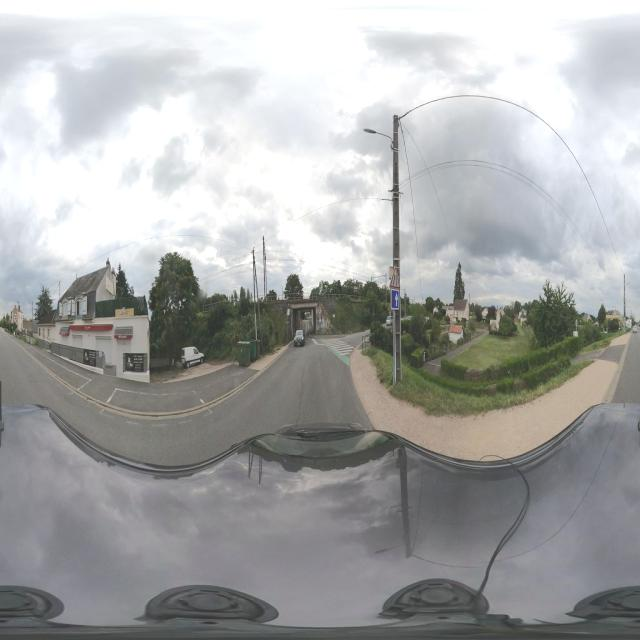car: (180, 345, 205, 367), (294, 330, 306, 348)
